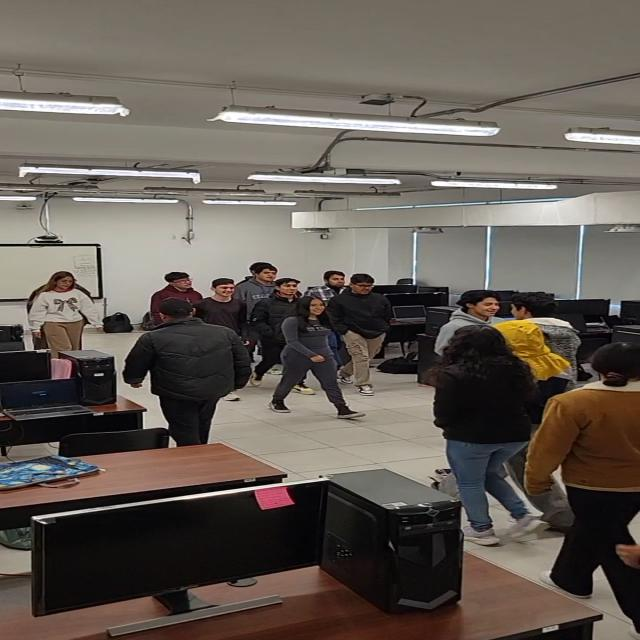Persona: (522, 341, 640, 640), (431, 322, 552, 549), (121, 298, 255, 448), (267, 295, 372, 420), (324, 274, 398, 398), (252, 274, 314, 396), (496, 321, 578, 400), (30, 270, 109, 351), (504, 294, 582, 362), (427, 288, 508, 348), (150, 271, 204, 327), (202, 277, 252, 336), (238, 264, 279, 304), (308, 271, 353, 303)
